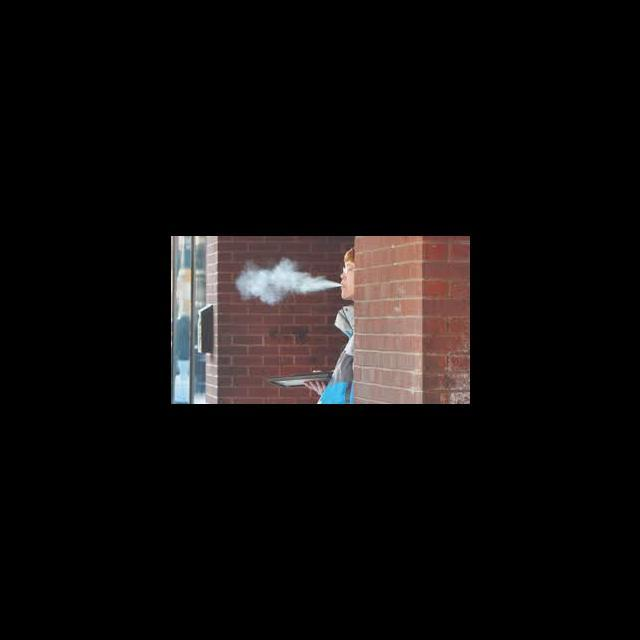Smoke: (235, 258, 337, 304)
